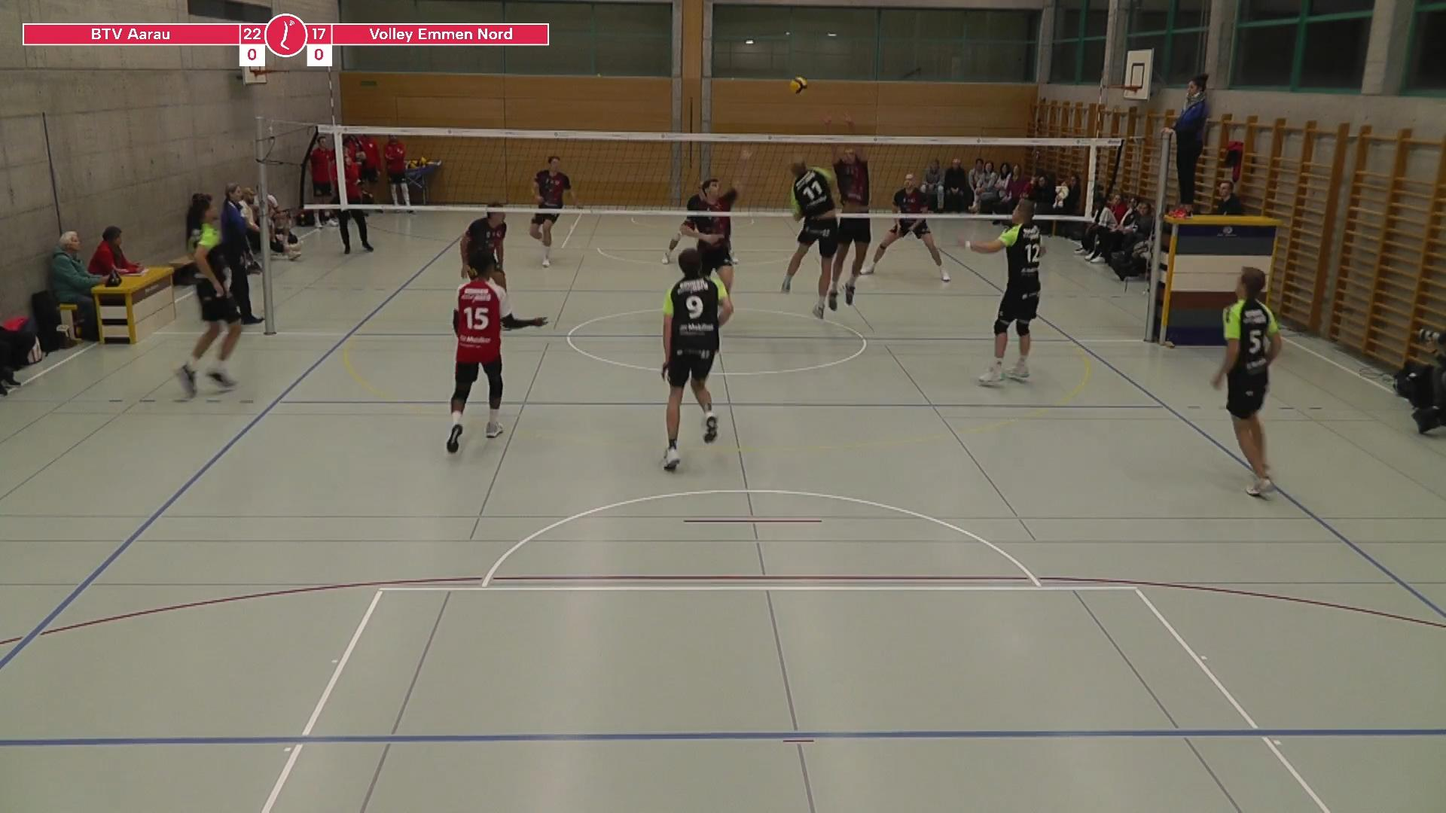attacco: (771, 153, 849, 316)
muro: (820, 115, 871, 318)
